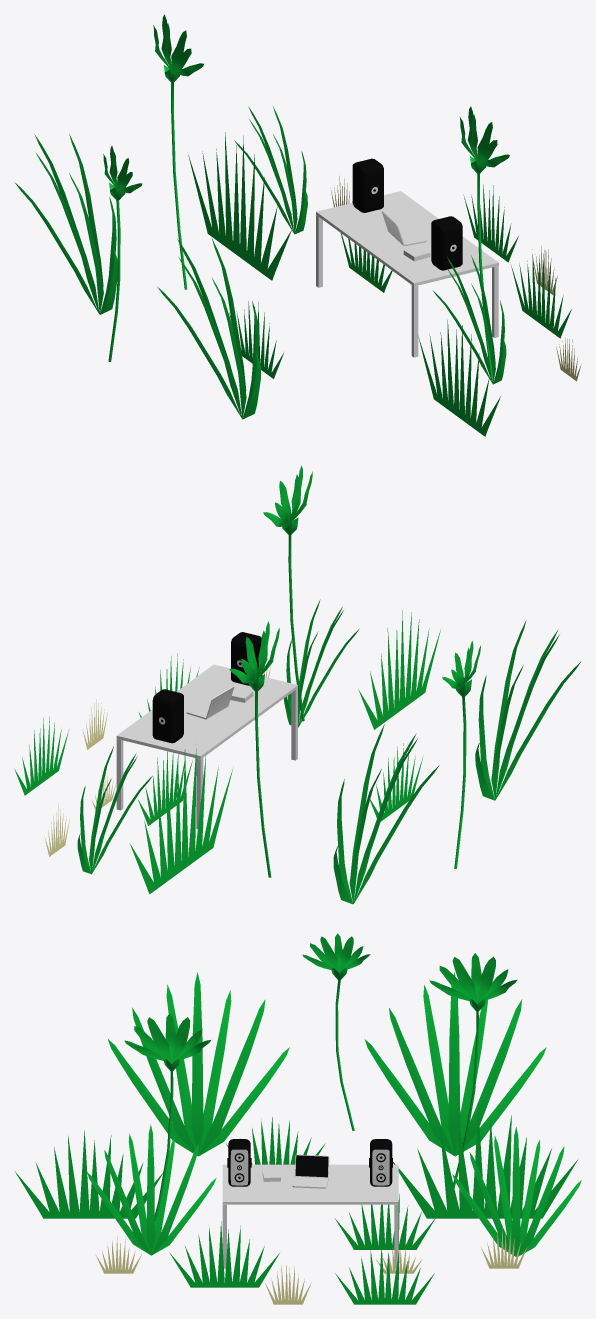
Rendered from rousseau.gltf.
3 renders of one model, top to bottom at view 1: azimuth 30°, elevation 25°; view 2: azimuth 150°, elevation 25°; view 3: azimuth 270°, elevation 25°, orthographic. The views are drawn at different scales.
Parts seen in each view (by area): view 1: big plant (×3), Cube, flower (×6), shrub, big plant.1, shrub.1, shrub.3, Cube.1-Mat, Cube-Mat, shrub.4, shrub.2, shrub.9 (+2 smaller); view 2: big plant (×3), Cube, flower (×6), shrub, big plant.1, shrub.1, Cube.1-Mat, shrub.4, shrub.9, shrub.2, Cube-Mat, laptop; view 3: big plant (×3), big plant.1, flower (×6), Cube, shrub, shrub.1, shrub.3, shrub.4, shrub.9, Cube.1-Mat (×2), Cube-Mat (×2), shrub.2 (+5 smaller).
Boxes of the visible parts, x1,y1,x2,y2 form: big plant (×3): (14, 106, 506, 384); Cube: (316, 191, 498, 286); flower (×6): (103, 14, 509, 380); shrub: (188, 132, 291, 280); big plant.1: (157, 238, 260, 419); shrub.1: (418, 320, 500, 436); shrub.3: (511, 249, 571, 338); Cube.1-Mat: (352, 158, 383, 212); Cube-Mat: (431, 216, 462, 270); shrub.4: (463, 184, 518, 262); shrub.2: (229, 301, 283, 378); shrub.9: (340, 233, 392, 292); big plant (×3): (77, 599, 439, 904); Cube: (116, 664, 297, 759); flower (×6): (229, 465, 480, 877); shrub: (129, 744, 232, 894); big plant.1: (475, 620, 581, 800); shrub.1: (358, 610, 440, 729); Cube.1-Mat: (152, 689, 183, 743); shrub.4: (14, 716, 69, 795); shrub.9: (138, 751, 193, 825); shrub.2: (370, 743, 423, 821); Cube-Mat: (231, 632, 262, 685); laptop: (186, 686, 234, 719); big plant (×3): (87, 972, 581, 1256); big plant.1: (108, 972, 289, 1156); flower (×6): (124, 933, 517, 1223); Cube: (222, 1164, 398, 1204); shrub: (393, 1107, 578, 1218); shrub.1: (15, 1130, 163, 1218); shrub.3: (169, 1221, 279, 1287); shrub.4: (335, 1247, 434, 1304); shrub.9: (335, 1193, 435, 1249); Cube.1-Mat (×2): (369, 1139, 393, 1186); Cube-Mat (×2): (227, 1139, 251, 1186); shrub.2: (225, 1117, 325, 1164).
Size of the model in its own units: 479 by 300 by 644.
